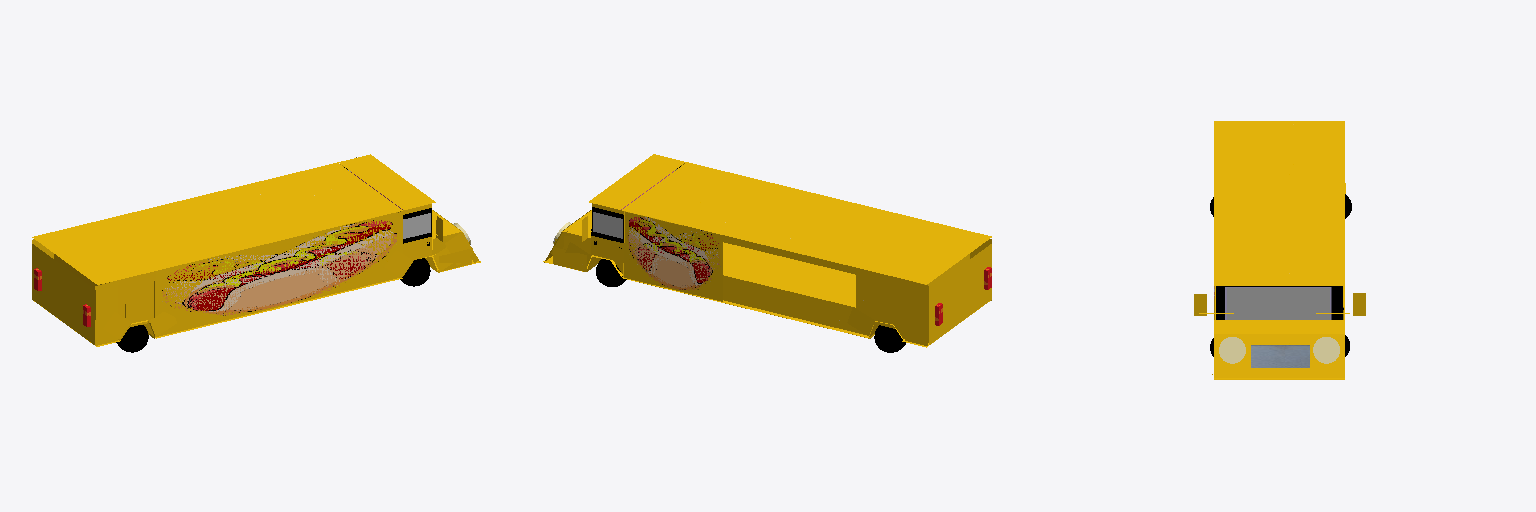
3 renders of one model, left to right at view 1: azimuth 30°, elevation 25°; view 2: azimuth 150°, elevation 25°; view 3: azimuth 270°, elevation 25°, orthographic.
Visible parts, largest first — view 1: Box015, Box010, Box049, Box046, Box028, Box042, Box027, Box048, Sphere004, Sphere002; view 2: Box015, Box054, Box001, Box049, Box011, Box046, Box041, Box028, Box026, Box047, Box057, Sphere005 (+2 smaller); view 3: Box015, Box021, Box049, Box025, Box028, Box024, Box050, Cylinder001, Cylinder002.
Boxes of the visible parts, x1=… form: Box015: x1=91, y1=162, x2=402, y2=270; Box010: x1=156, y1=212, x2=402, y2=336; Box049: x1=32, y1=223, x2=155, y2=284; Box046: x1=32, y1=244, x2=95, y2=344; Box028: x1=338, y1=154, x2=435, y2=209; Box042: x1=113, y1=268, x2=166, y2=327; Box027: x1=401, y1=204, x2=431, y2=259; Box048: x1=95, y1=280, x2=118, y2=345; Sphere004: x1=116, y1=325, x2=148, y2=352; Sphere002: x1=400, y1=258, x2=430, y2=286; Box015: x1=622, y1=162, x2=933, y2=269; Box054: x1=624, y1=212, x2=722, y2=301; Box001: x1=622, y1=242, x2=868, y2=337; Box049: x1=868, y1=223, x2=991, y2=284; Box011: x1=639, y1=275, x2=870, y2=338; Box046: x1=929, y1=244, x2=991, y2=344; Box041: x1=856, y1=268, x2=912, y2=332; Box028: x1=589, y1=154, x2=685, y2=209; Box026: x1=591, y1=203, x2=623, y2=262; Box047: x1=905, y1=282, x2=928, y2=345; Box057: x1=683, y1=225, x2=856, y2=274; Sphere005: x1=874, y1=325, x2=905, y2=352; Box015: x1=1214, y1=149, x2=1344, y2=269; Box021: x1=1216, y1=286, x2=1342, y2=319; Box049: x1=1214, y1=121, x2=1344, y2=148; Box025: x1=1214, y1=334, x2=1344, y2=379; Box028: x1=1214, y1=270, x2=1344, y2=285; Box024: x1=1214, y1=320, x2=1344, y2=333; Box050: x1=1251, y1=345, x2=1309, y2=367; Cylinder001: x1=1219, y1=337, x2=1245, y2=363; Cylinder002: x1=1313, y1=337, x2=1339, y2=363.
Size of the model in its own units: 90.03 by 18.28 by 34.19.
Materials: 10 (8 with a texture image).